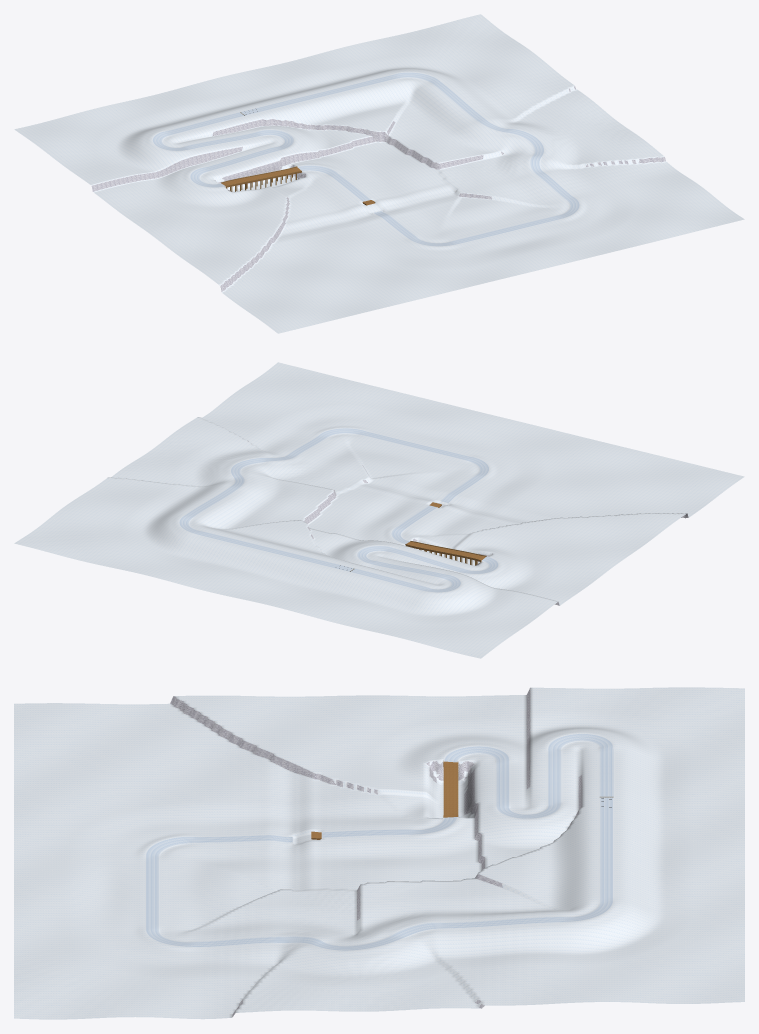
3 renders of one model, top to bottom at view 1: azimuth 30°, elevation 25°; view 2: azimuth 150°, elevation 25°; view 3: azimuth 270°, elevation 25°, orthographic. The views are drawn at different scales.
Visible parts, largest first — view 1: Land, Road 06 deck, Road 15 road, Road 17 road; view 2: Land, Road 06 deck, Road 04 road, Road 01 road, Road 13 road; view 3: Land, Road 02 road, Road 16 road, Road 11 road, Road 05 road, Road 12 road, Road 03 road, Road 06 deck, Road 18 road, Road 19 road, Road 14 road, Road 01 road (+5 smaller).
Part boxes in pixels (box(x1,y1,x2,y2)): Land: box(14, 14, 744, 333); Road 06 deck: box(221, 166, 301, 187); Road 15 road: box(511, 129, 544, 171); Road 17 road: box(393, 72, 461, 100); Land: box(14, 362, 744, 658); Road 06 deck: box(405, 541, 486, 561); Road 04 road: box(360, 545, 443, 566); Road 01 road: box(349, 568, 430, 591); Road 13 road: box(338, 428, 420, 448); Land: box(14, 687, 744, 1019); Road 02 road: box(546, 733, 614, 767); Road 16 road: box(387, 919, 507, 940); Road 11 road: box(167, 834, 292, 845); Road 05 road: box(443, 745, 510, 775); Road 12 road: box(144, 839, 174, 891); Road 03 road: box(528, 767, 562, 819); Road 06 deck: box(443, 761, 458, 817); Road 18 road: box(598, 849, 614, 901); Road 19 road: box(598, 797, 614, 848); Road 14 road: box(160, 936, 285, 947); Road 01 road: box(598, 746, 614, 797).
Size of the model in its own units: 863 by 41.8 by 845.
7 materials, 7 textured.
